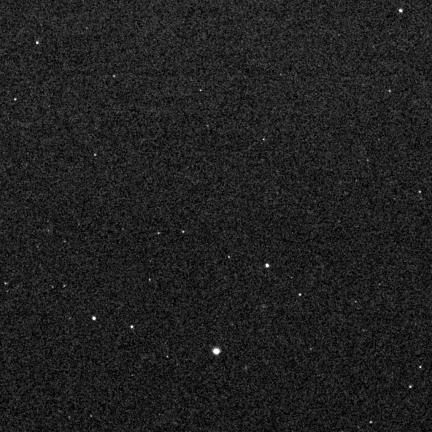blob: (212, 347, 221, 355), (399, 9, 403, 13), (409, 385, 413, 389), (92, 316, 96, 320), (94, 153, 98, 157), (130, 325, 134, 329), (14, 98, 17, 102), (157, 232, 161, 235), (389, 90, 392, 93), (113, 75, 116, 78), (266, 264, 269, 267), (182, 231, 185, 234), (228, 256, 231, 259), (419, 191, 422, 194), (299, 294, 302, 297), (36, 41, 39, 44), (419, 366, 422, 369), (149, 279, 152, 281)
